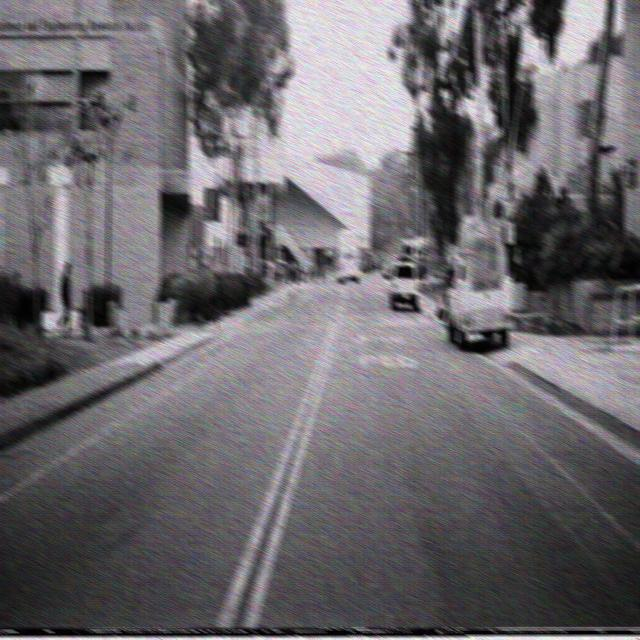pedestrianCrossing: (496, 169, 523, 221)
